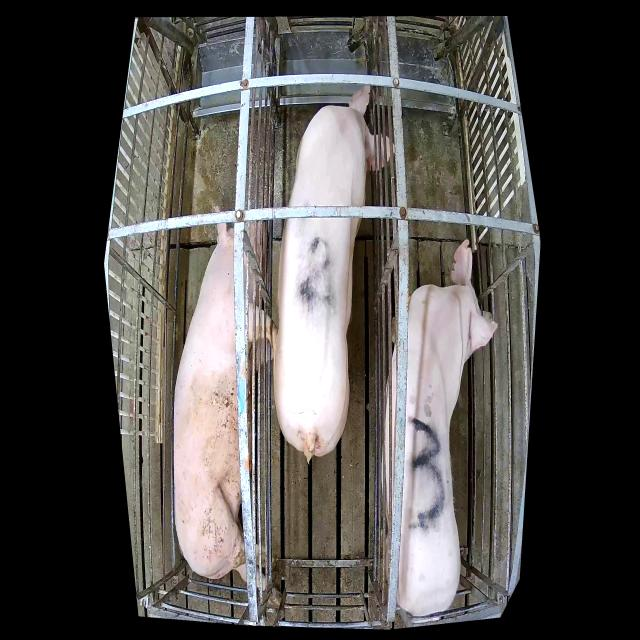pig: (273, 86, 394, 462), (381, 240, 498, 616), (174, 206, 282, 609)
